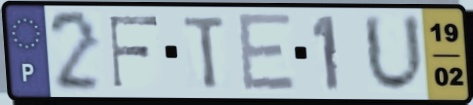1: (309, 12, 343, 95)
2: (45, 7, 108, 96)
E: (234, 10, 299, 95)
F: (107, 14, 161, 91)
T: (180, 14, 229, 92)
U: (360, 11, 429, 97)
